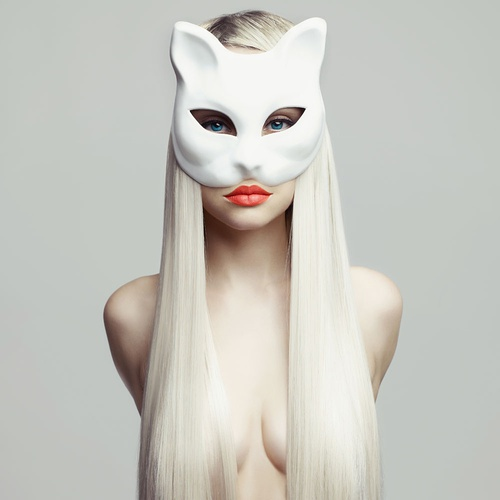face: (179, 46, 313, 229)
